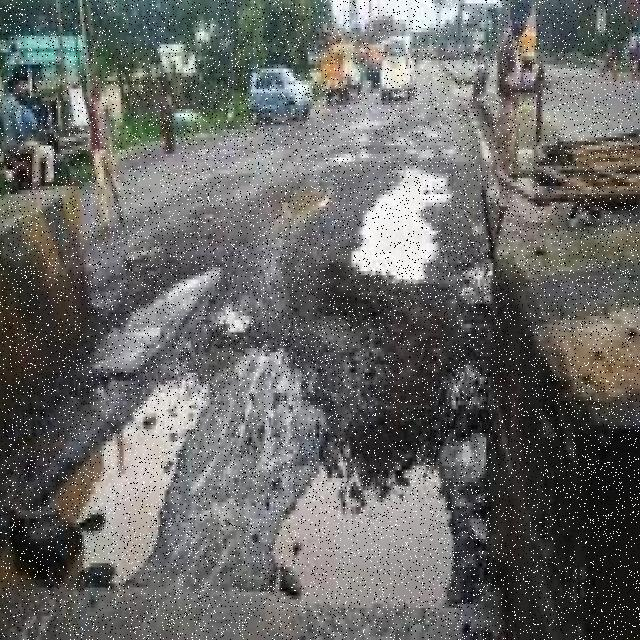pothole: (56, 377, 208, 587), (273, 474, 452, 608), (93, 267, 221, 373), (349, 174, 445, 283), (282, 186, 332, 223)
